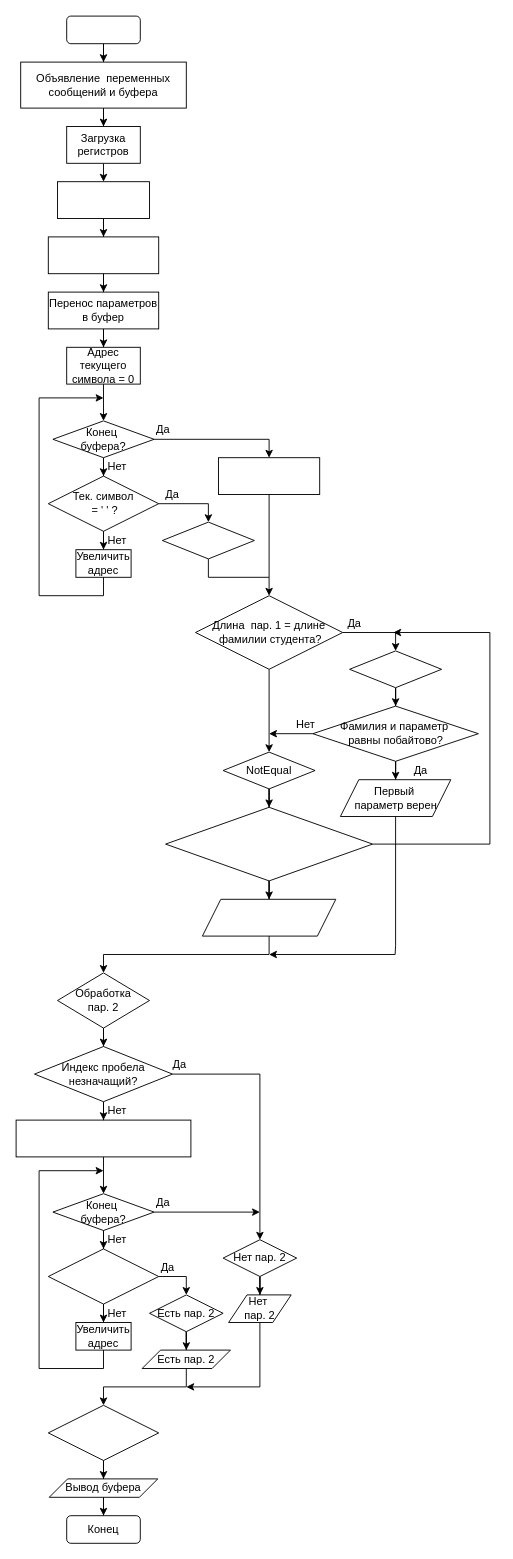
The diagram is 513 pixels wide and 1559 high, and some of its shapes have lost their labels. The shapes that lost their labels are listed below. From the top down, each one's box as (x1, y1, x2, y2) in pixels, then its label:
(66, 15, 140, 44): Начало
(57, 181, 150, 218): Получение PSP адреса
(47, 236, 159, 274): Получение длины параметров
(218, 457, 320, 494): индекс пробела = незначащее число
(161, 521, 254, 559): space_found
(349, 650, 442, 688): COMPARE
(165, 806, 373, 881): Общая длина буф. = длине фамилии студента?
(201, 898, 336, 936): Первый параметр не верен
(15, 1119, 191, 1157): Адрес текущего символа = индекс первого пробела +1
(47, 1248, 159, 1304): Тек. символ != ' ' ?
(47, 1404, 159, 1460): Распечатка параметров
